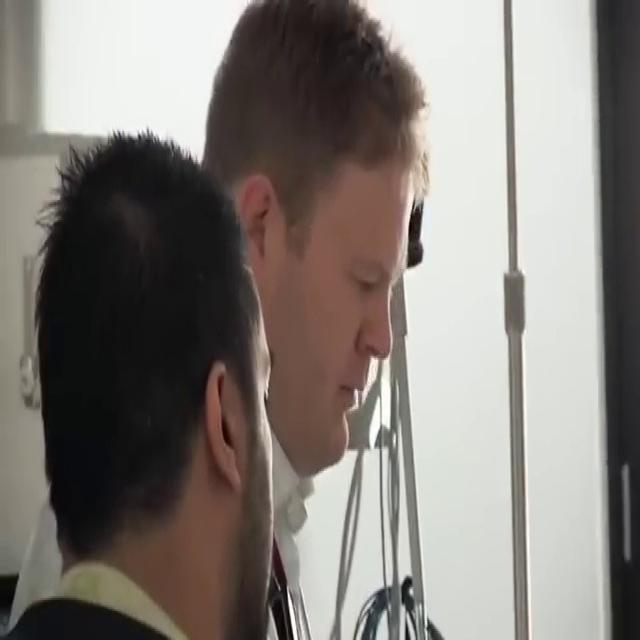doctor: (270, 0, 429, 636)
others: (3, 127, 276, 638)
